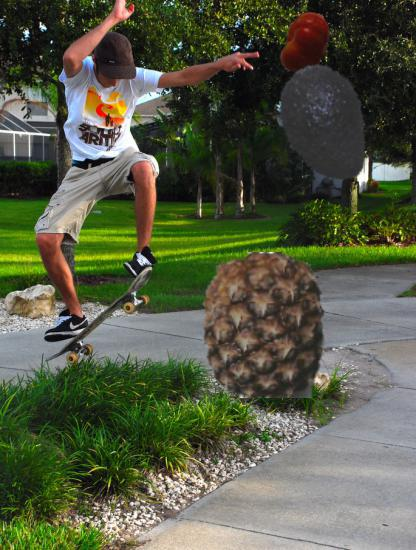Avocado: (262, 65, 385, 188)
Pineapple: (191, 252, 338, 399)
Tomato: (273, 11, 338, 76)
